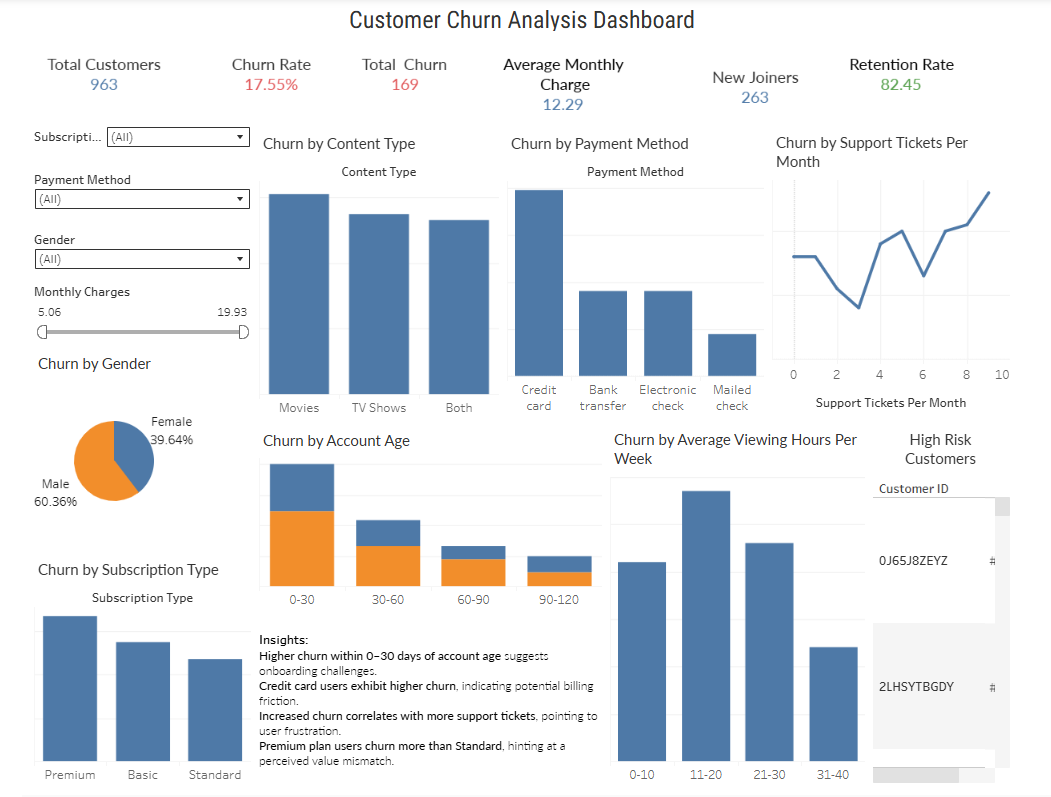

The page's visual inventory and layout, read from the dashboard file:
{"tool":"tableau","page":{"name":"Churn Analysis Dashboard","canvas":[1000,800],"ordinal":0},"visuals":[{"type":"title","box":[8,8,984,32]},{"type":"worksheet","title":"Total Customers","mark":"Text","box":[8,40,186.9,87.7]},{"type":"worksheet","title":"Churn Rate","mark":"Text","box":[194.9,40,133.8,87.7]},{"type":"worksheet","title":"Total Churn","mark":"Automatic","box":[328.7,40,138.7,87.7]},{"type":"worksheet","title":"Average Monthly Charge","mark":"Automatic","box":[467.4,40,183.3,87.7]},{"type":"worksheet","title":"New Joiners","mark":"Automatic","box":[650.7,40,164,87.7]},{"type":"worksheet","title":"retention","mark":"Text","box":[814.7,40,177.3,87.7]},{"type":"filter","title":"New Joiners","param":"[federated.1o93mfv04lzslv19jcouj05l829k].[none:SubscriptionType:nk]","box":[8,127.7,225,43.3]},{"type":"worksheet","title":"Churn by Content Type","mark":"Automatic","rows":["Churn"],"cols":["ContentType"],"box":[233,127.7,248,297.3]},{"type":"worksheet","title":"Churn by Payment Method","mark":"Bar","rows":["Churn"],"cols":["PaymentMethod"],"box":[481,127.7,265,297.3]},{"type":"worksheet","title":"churn by support tickets","mark":"Automatic","rows":["Churn"],"cols":["SupportTicketsPerMonth"],"box":[746,127.7,246,297.3]},{"type":"filter","title":"Churn by Payment Method","param":"[federated.1o93mfv04lzslv19jcouj05l829k].[none:PaymentMethod:nk]","box":[8,171,225,59.5]},{"type":"filter","title":"Churn by Account Age","param":"[federated.1o93mfv04lzslv19jcouj05l829k].[none:Gender:nk]","box":[8,230.5,225,52.4]},{"type":"filter","title":"churn by average viewing hour per week","param":"[federated.1o93mfv04lzslv19jcouj05l829k].[none:MonthlyCharges:qk]","box":[8,282.9,225,65.5]},{"type":"worksheet","title":"Churn by gender","mark":"Pie","box":[8,348.4,225,205.6]},{"type":"worksheet","title":"Churn by Account Age","mark":"Automatic","rows":["Churn"],"cols":["Account Age (bin)"],"box":[233,425,351,191.9]},{"type":"worksheet","title":"churn by average viewing hour per week","mark":"Automatic","rows":["Churn"],"cols":["Viewing Hours Per Week (bin)"],"box":[584,425,263,367]},{"type":"worksheet","title":"High risk customers","mark":"Text","rows":["CustomerID"],"box":[846.9,425,145.1,367]},{"type":"worksheet","title":"churn by subscription type","mark":"Automatic","rows":["Churn"],"cols":["SubscriptionType"],"box":[8,554.1,225,237.9]},{"type":"text","box":[233,616.9,351,175.1]}]}

Visuals, with their boxes on the page's 1000x800 design canvas (x1, y1, x2, y2). These are canvas units, not pixel positions in the 1051x797 screenshot, which may show the page scaled, cropped or inside an application window:
title: 8, 8, 992, 40
"Total Customers" worksheet (Text marks): 8, 40, 195, 128
"Churn Rate" worksheet (Text marks): 195, 40, 329, 128
"Total Churn" worksheet: 329, 40, 467, 128
"Average Monthly Charge" worksheet: 467, 40, 651, 128
"New Joiners" worksheet: 651, 40, 815, 128
"retention" worksheet (Text marks): 815, 40, 992, 128
"New Joiners" filter: 8, 128, 233, 171
"Churn by Content Type" worksheet: 233, 128, 481, 425
"Churn by Payment Method" worksheet (Bar marks): 481, 128, 746, 425
"churn by support tickets" worksheet: 746, 128, 992, 425
"Churn by Payment Method" filter: 8, 171, 233, 230
"Churn by Account Age" filter: 8, 230, 233, 283
"churn by average viewing hour per week" filter: 8, 283, 233, 348
"Churn by gender" worksheet (Pie marks): 8, 348, 233, 554
"Churn by Account Age" worksheet: 233, 425, 584, 617
"churn by average viewing hour per week" worksheet: 584, 425, 847, 792
"High risk customers" worksheet (Text marks): 847, 425, 992, 792
"churn by subscription type" worksheet: 8, 554, 233, 792
text: 233, 617, 584, 792
